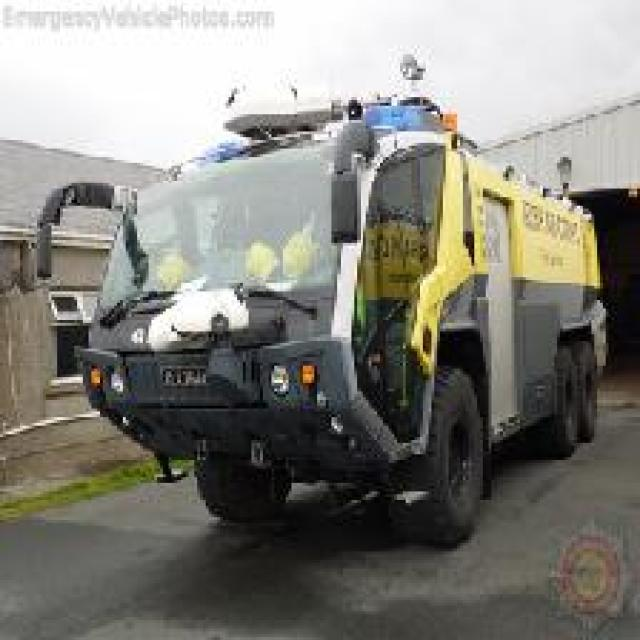Fire-truck: (31, 51, 608, 546)
